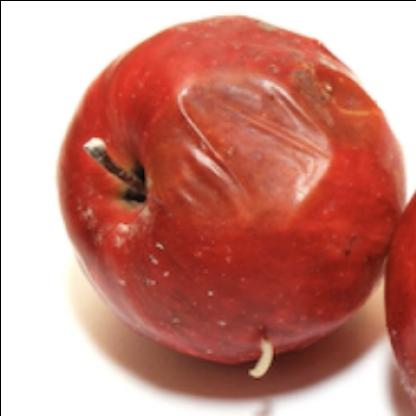Rotten Apple: (52, 17, 398, 369)
